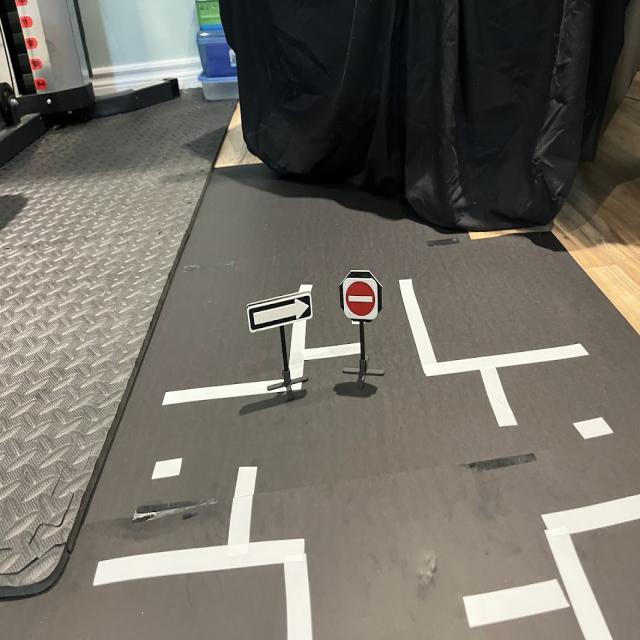sign_noentry: (343, 274, 379, 327)
sign_oneway_right: (246, 287, 316, 337)
